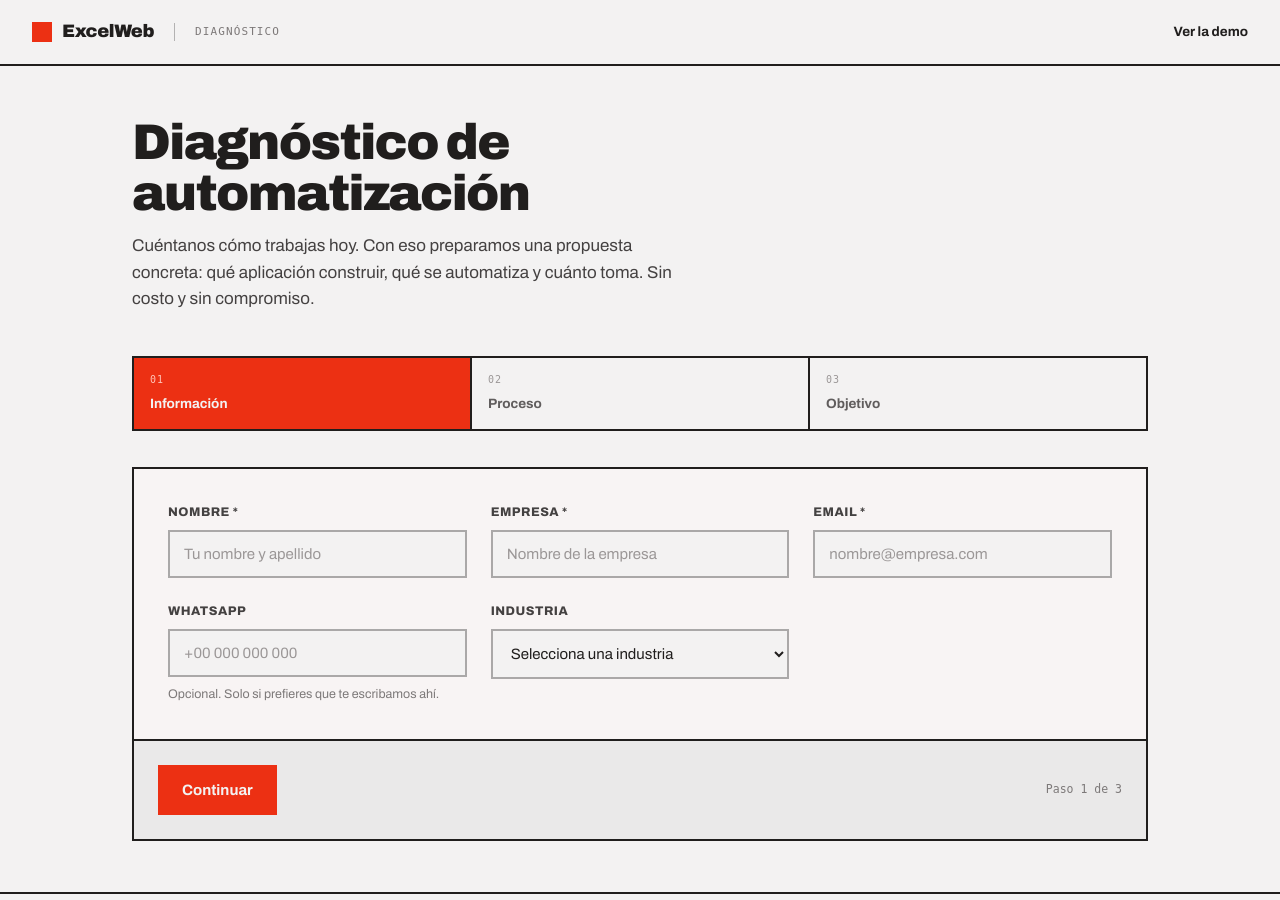
Test case: Diagnostico form › blocks advancing past step 1 and shows errors when required fields are empty
Click the button "Continuar" at coordinates (217, 790), box [158,765,277,815]
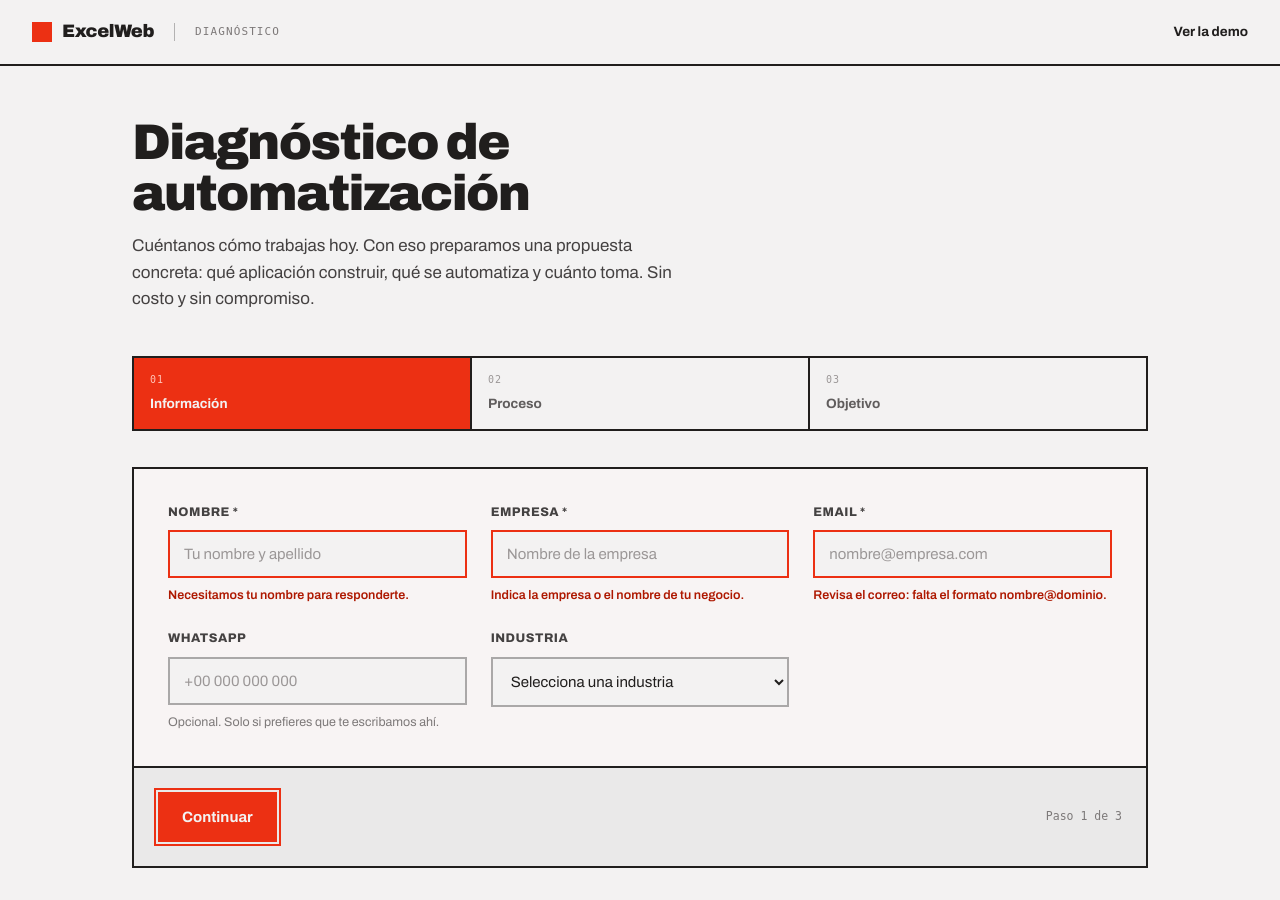
Expected: the text "Necesitamos tu nombre para responderte." is shown, [168,588,409,602]
Expected: the text "Indica la empresa o el nombre de tu negocio." is shown, [491,588,744,602]
Expected: the text "Revisa el correo: falta el formato nombre@dominio." is shown, [813,586,1112,605]
